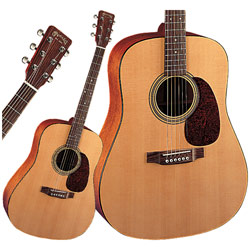guitar: (93, 9, 249, 242), (3, 11, 116, 240)
